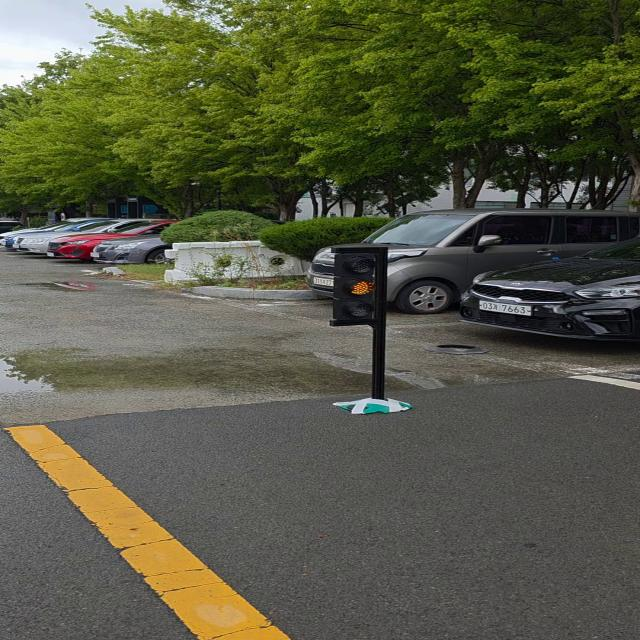yellow: (334, 248, 390, 326)
